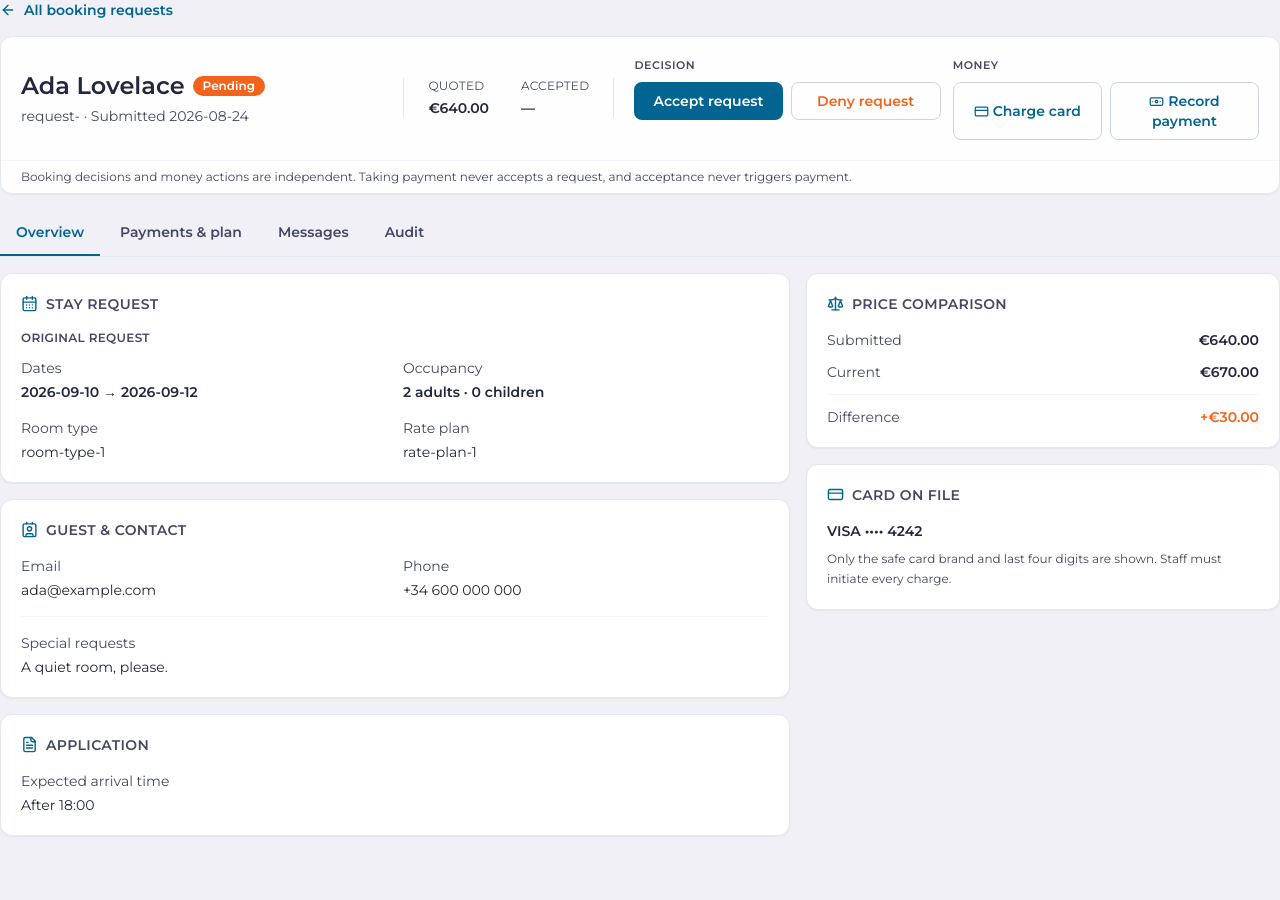
Scenario: Booking request decisions › blocks denial while money is unresolved and directs staff to resolution actions
Click the button "Deny request" at (866, 100), box [791, 82, 941, 120]
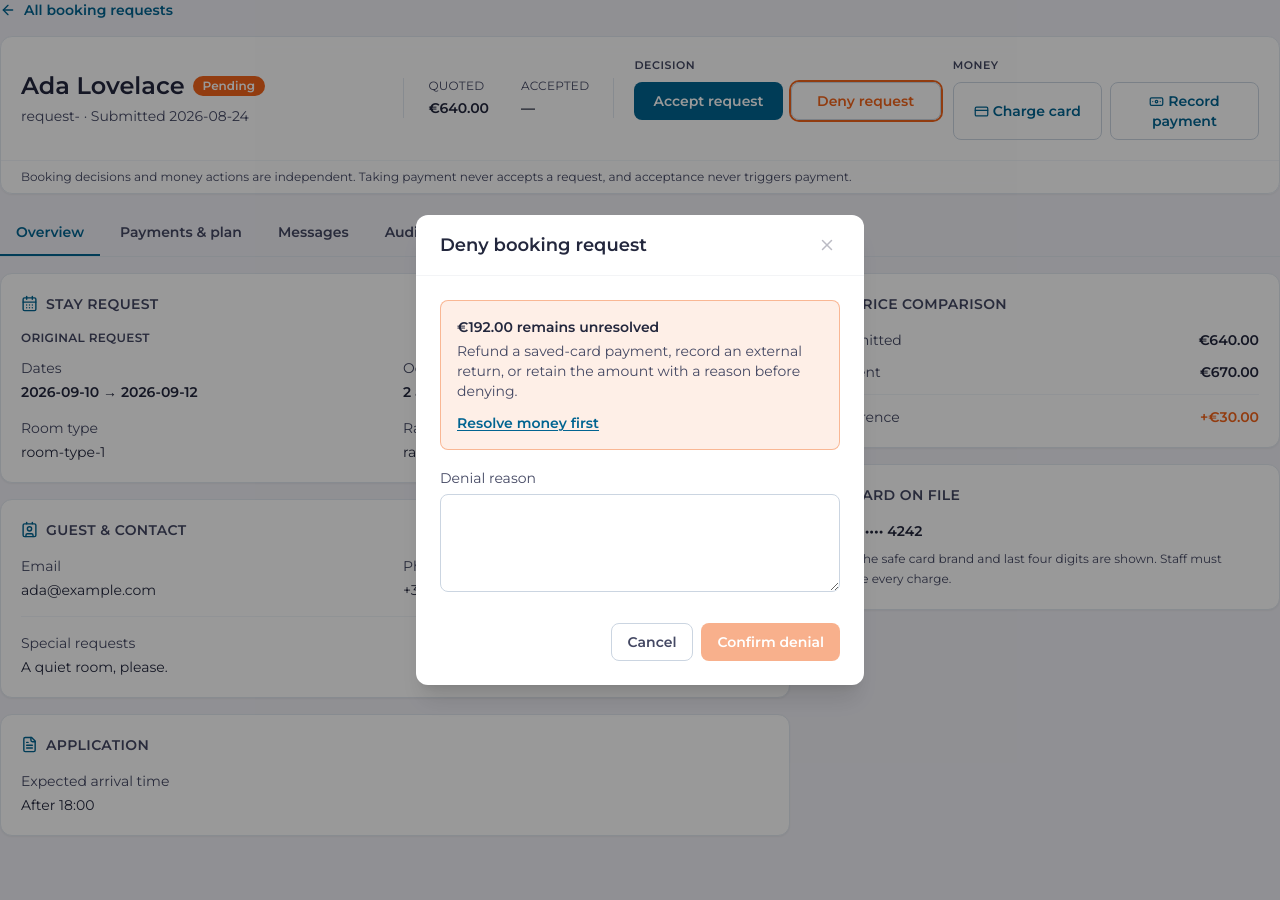
Expected: the message shows "€192.00 remains unresolved", [457, 318, 659, 336]
Expected: the button "Confirm denial" is disabled, [701, 623, 840, 661]
Click the button "Resolve money first" at (528, 423), box [457, 413, 599, 433]
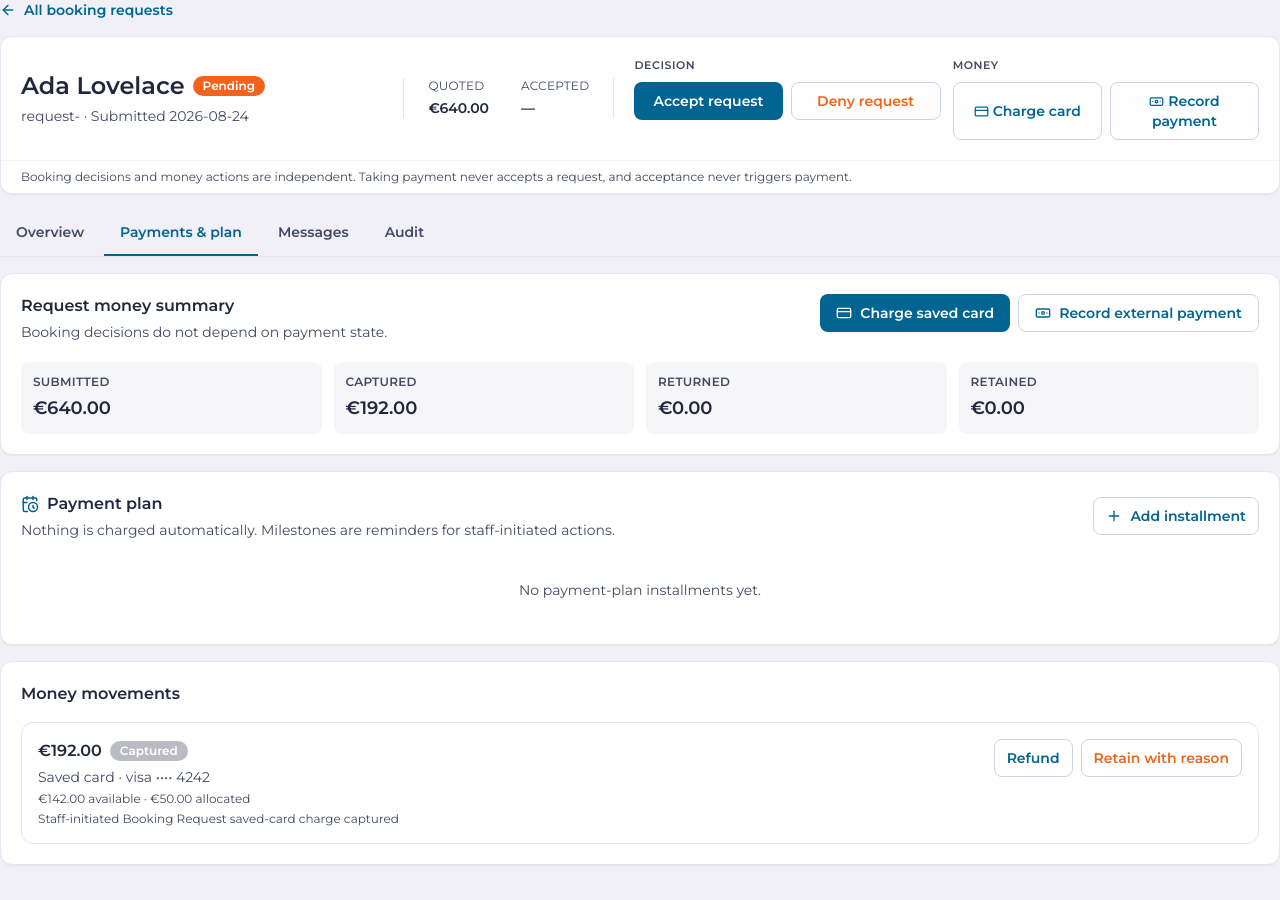
Expected: the button "Refund" is shown, [994, 738, 1072, 776]
Expected: the button "Retain with reason" is shown, [1080, 738, 1242, 776]
